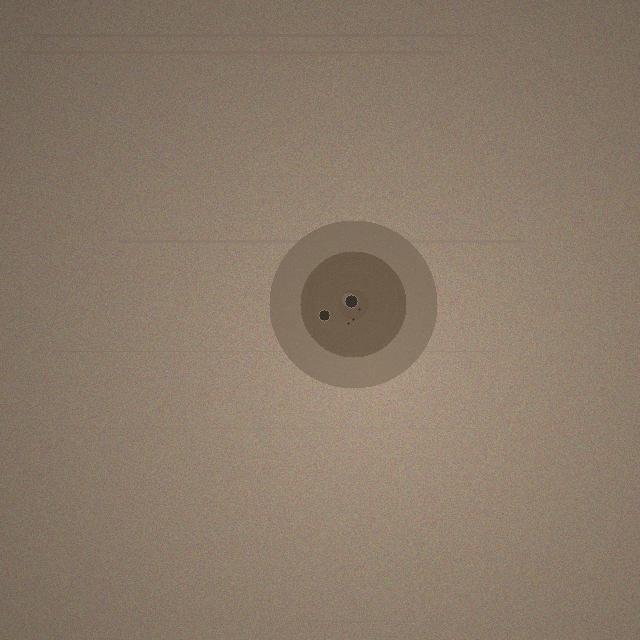shrinkage: (269, 220, 437, 388)
